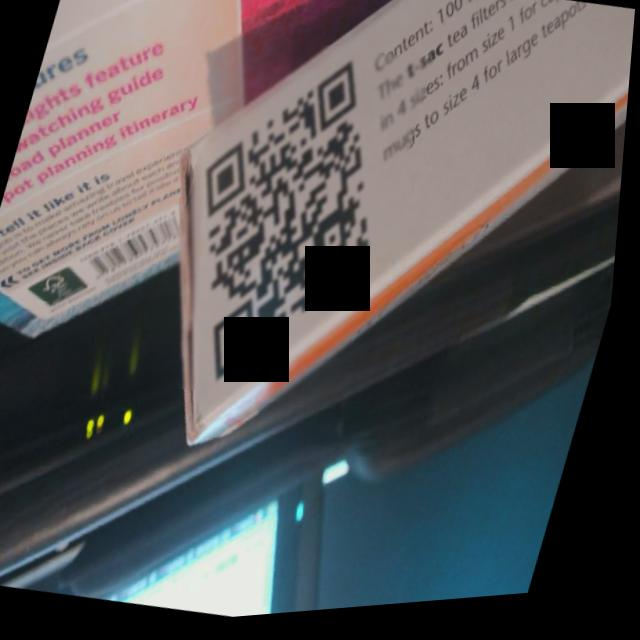QR_CODE: (138, 24, 439, 428)
